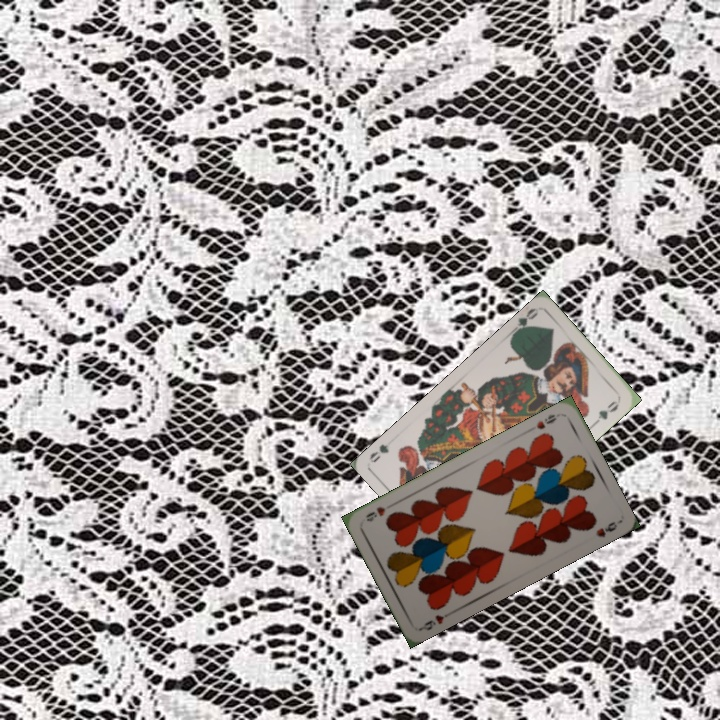GO: (506, 304, 540, 340)
H9: (417, 608, 455, 633), (532, 410, 559, 432)
